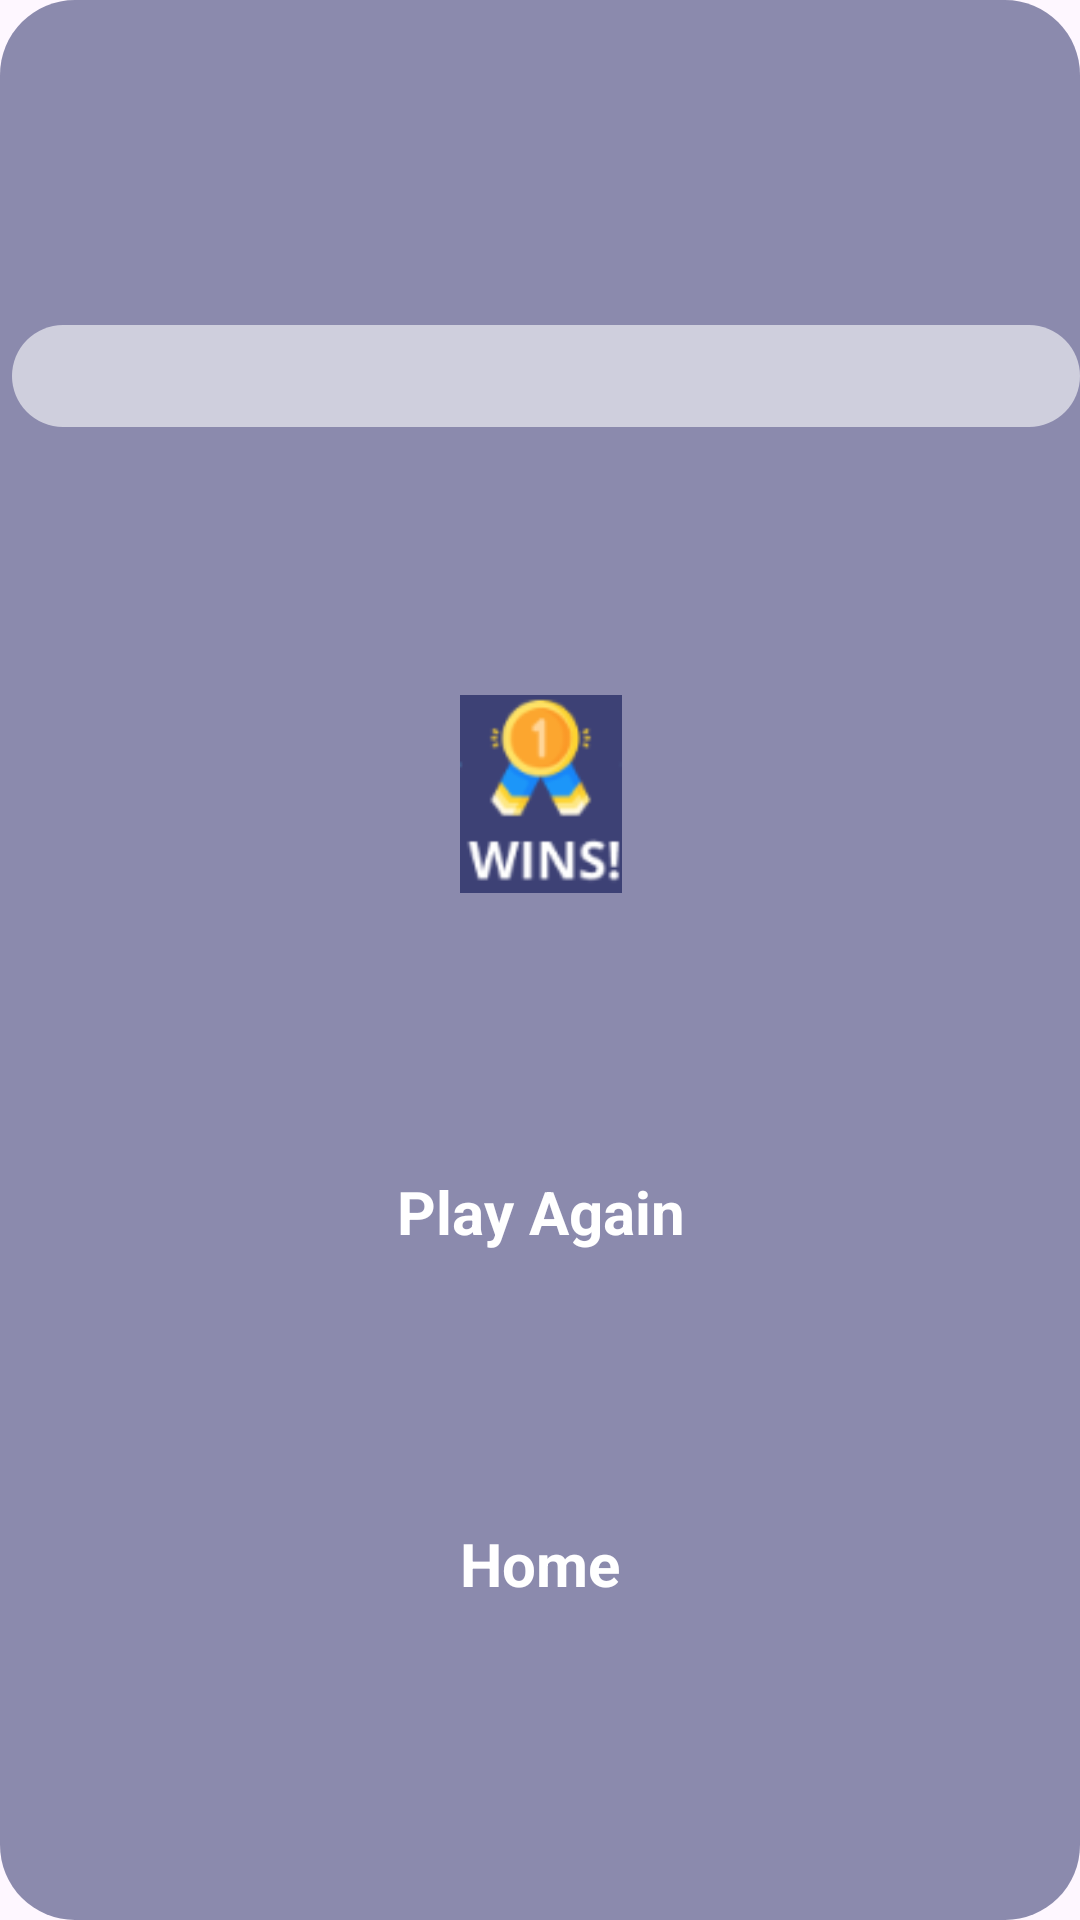

Screen size 1080 x 1920. Icon name, then its box in pixels as (x1, y1, x2, y2):
winnermedal: (460, 695, 622, 893)
